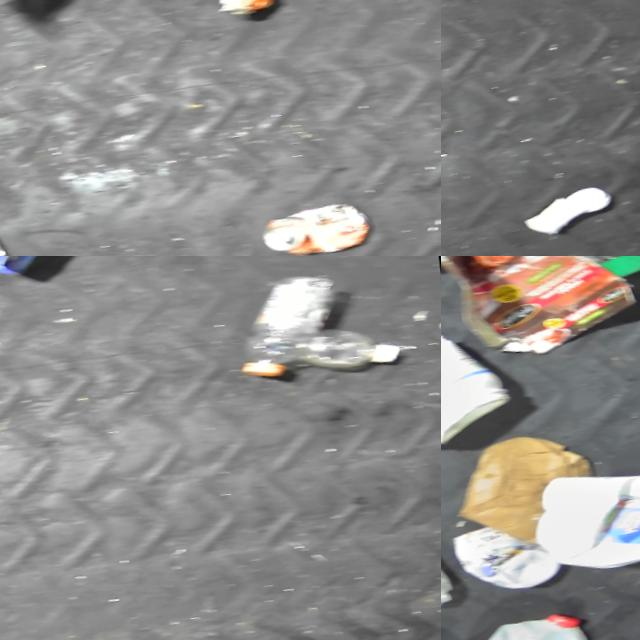can: (257, 187, 381, 256)
milk_jug: (529, 436, 640, 582), (441, 594, 611, 640)
plastic_bottle: (229, 257, 354, 379), (258, 303, 405, 380), (441, 502, 471, 619)
